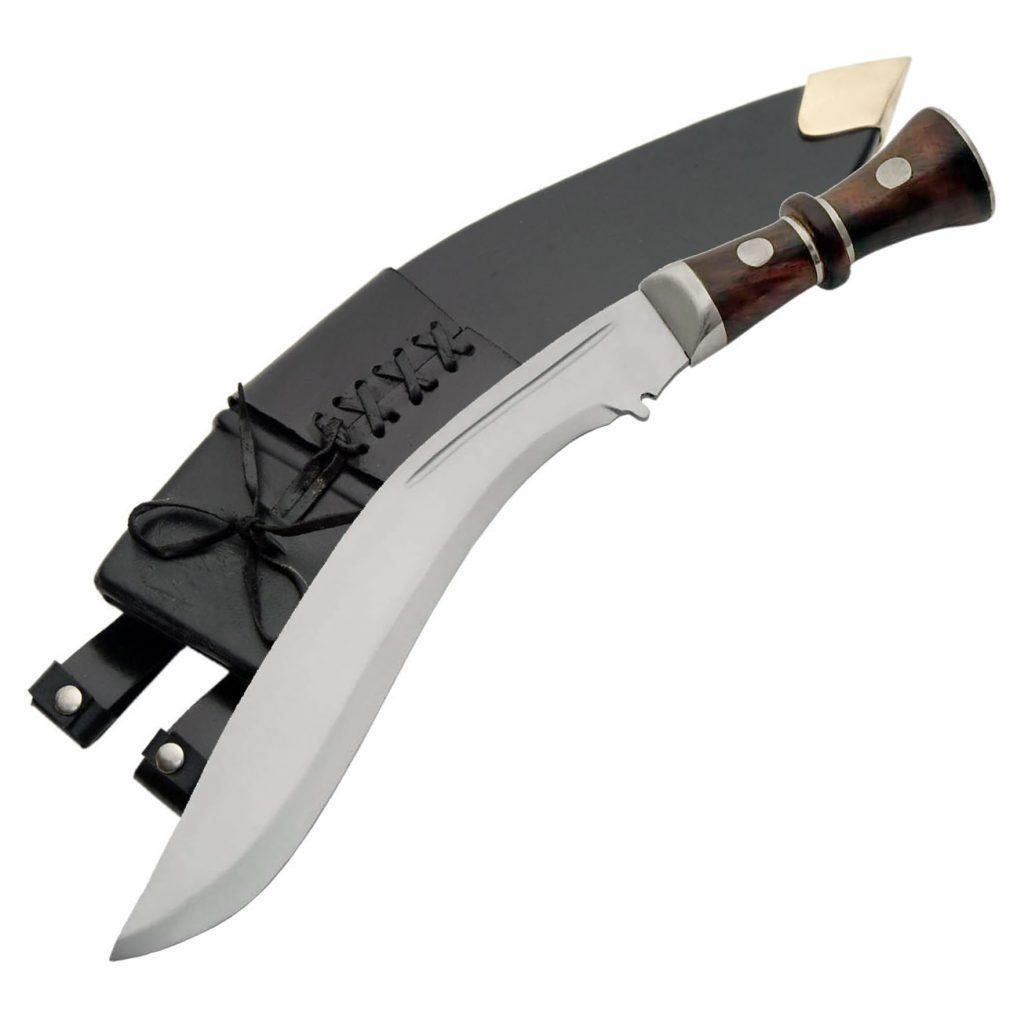facao: (108, 108, 996, 985)
